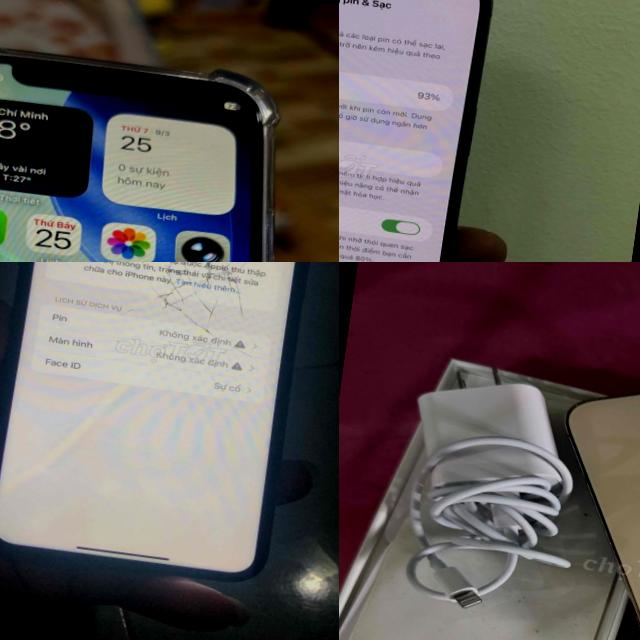physical_damage: (114, 262, 324, 392)
